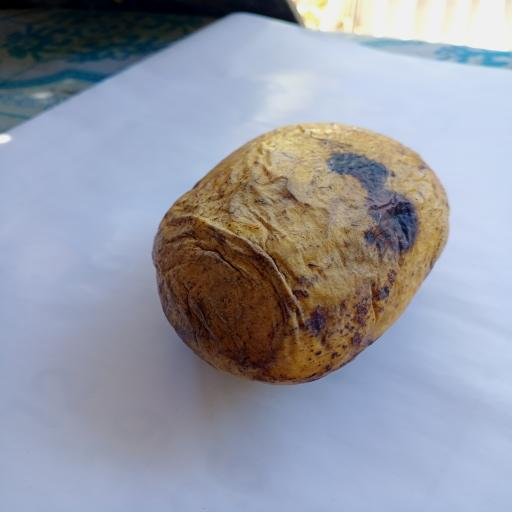mango-overripe: (149, 106, 471, 391)
